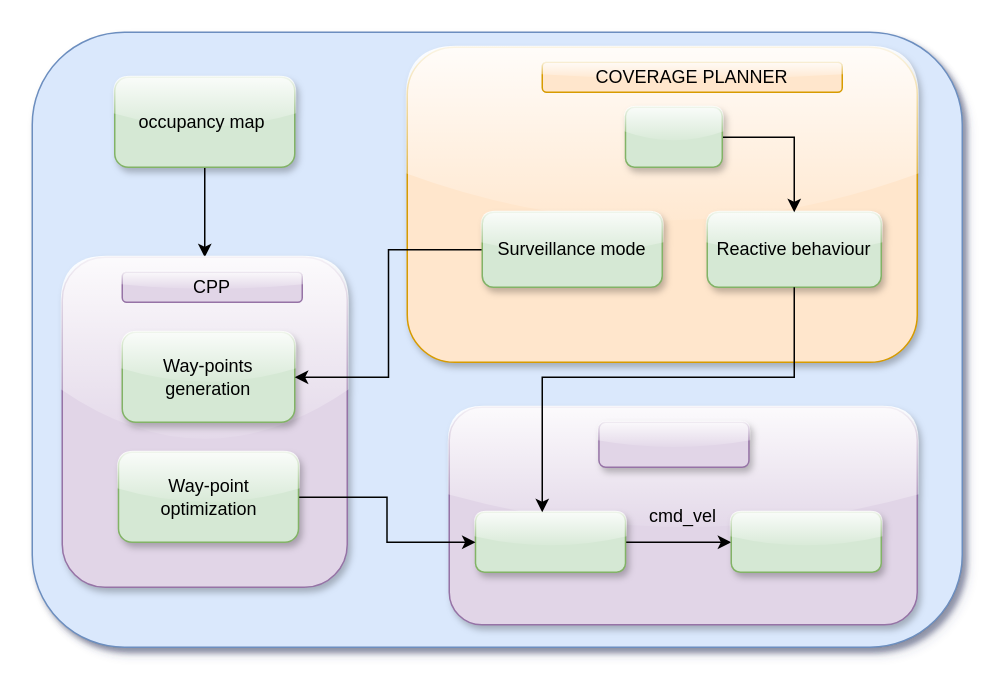
Some shapes in this 1007 by 693 pixel diagram are drawn without their labels. Here are the shapes that lost their labels. From the top down, the centre of each, then its label:
the point at 674,139: flag
the point at 674,446: ROS interface
the point at 551,544: MoveBase
the point at 807,544: base controller
